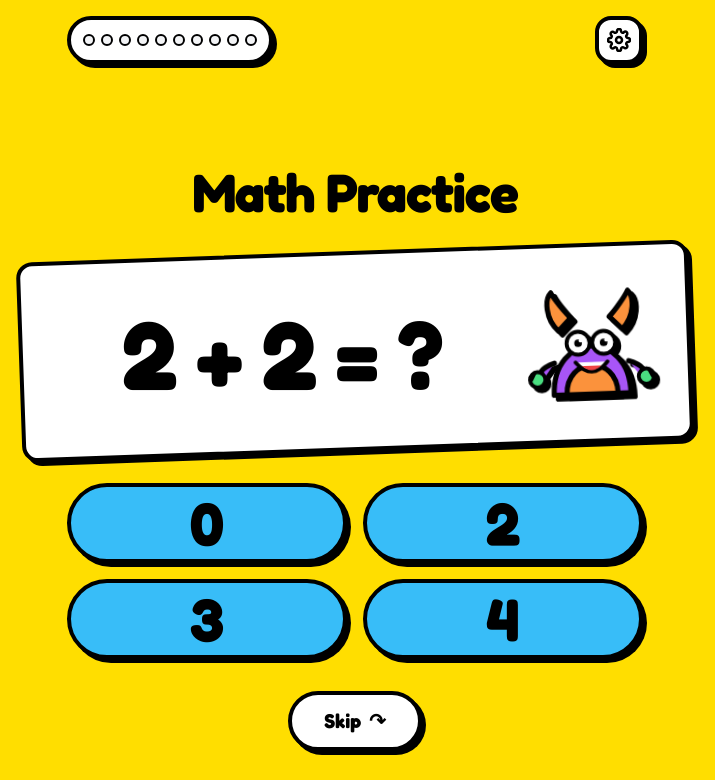
Test: Home Page auto-advance › advances immediately when the button is tapped during the countdown
This screenshot has width=715, height=780.
Click the button "4".
click(503, 619)  # box x1=363 y1=579 x2=643 y2=659
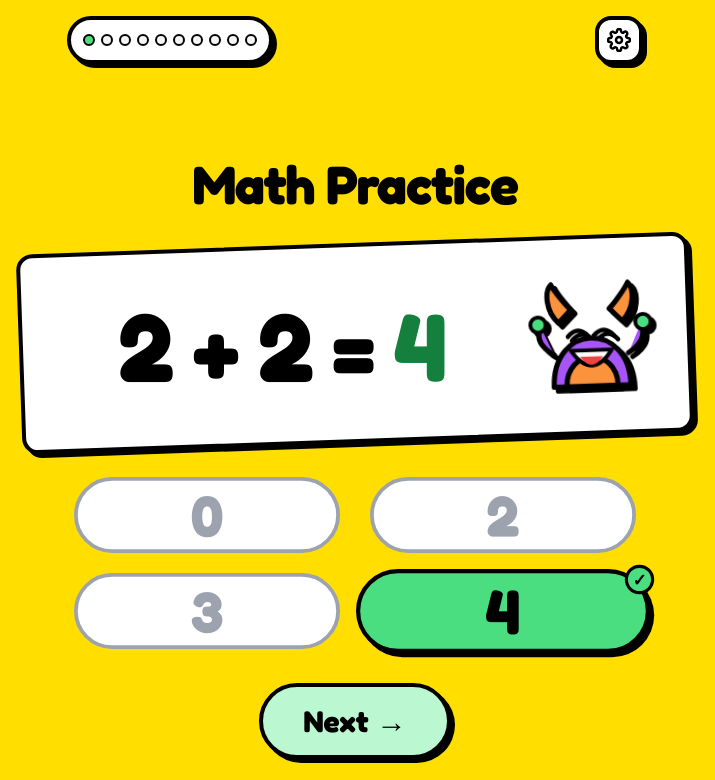
Click the button with test id "advance-button".
click(355, 721)  # box x1=259 y1=683 x2=451 y2=759
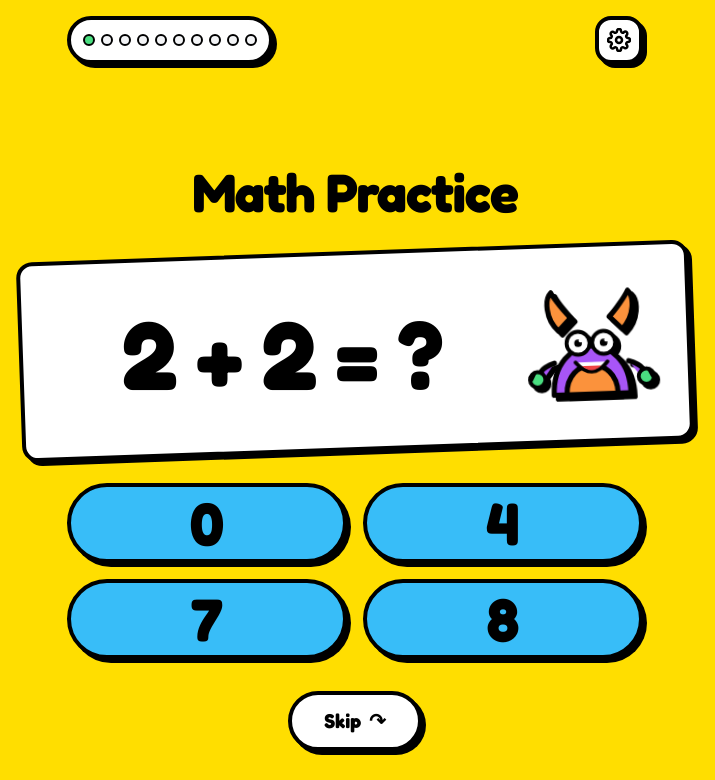
Expected: the button with test id "advance-button" shows "Skip", x1=288 y1=691 x2=422 y2=751
